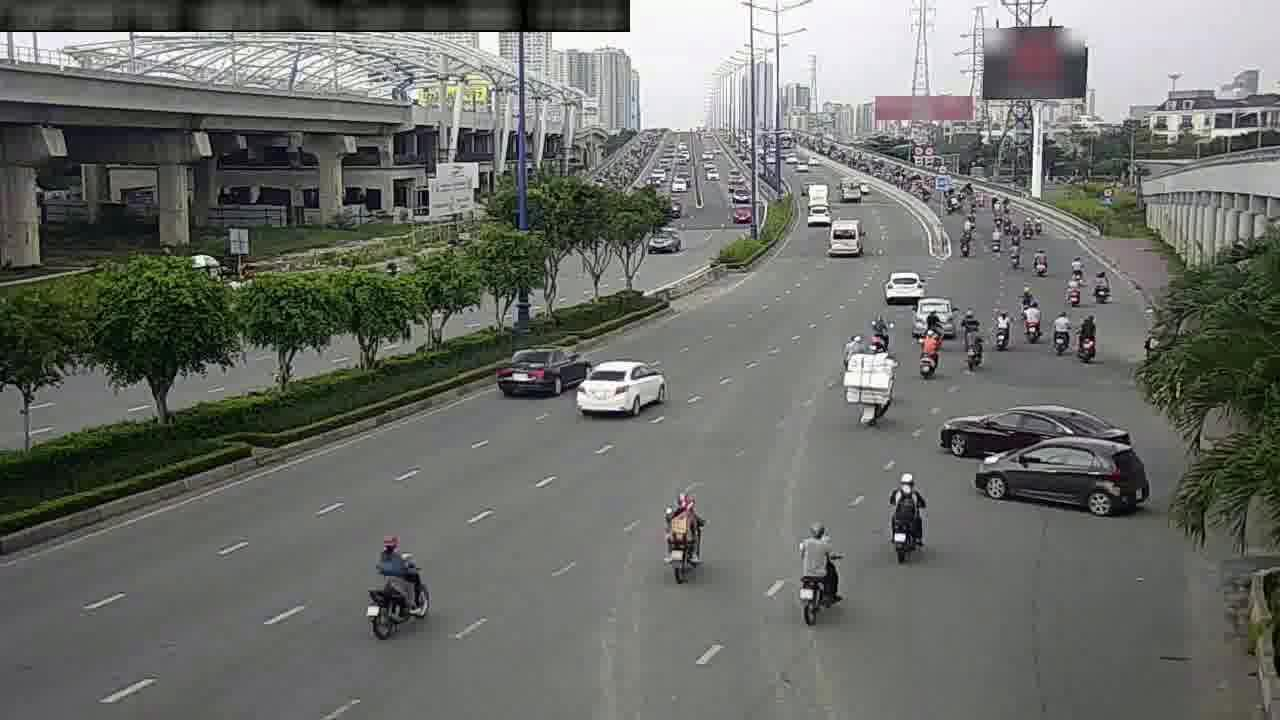container: (940, 391, 1152, 517), (571, 351, 661, 419), (497, 340, 592, 402), (877, 260, 930, 306)
motorbike: (358, 535, 433, 633), (785, 526, 846, 619), (654, 492, 711, 577), (877, 475, 931, 555), (846, 359, 902, 426), (1069, 317, 1103, 366), (957, 321, 989, 368), (865, 309, 898, 354), (910, 332, 941, 379), (987, 309, 1017, 355), (1018, 301, 1046, 345), (1047, 311, 1075, 355), (919, 292, 949, 331), (1089, 266, 1114, 305), (902, 305, 928, 341), (1060, 274, 1084, 311), (1029, 245, 1053, 278), (1003, 240, 1023, 271)
